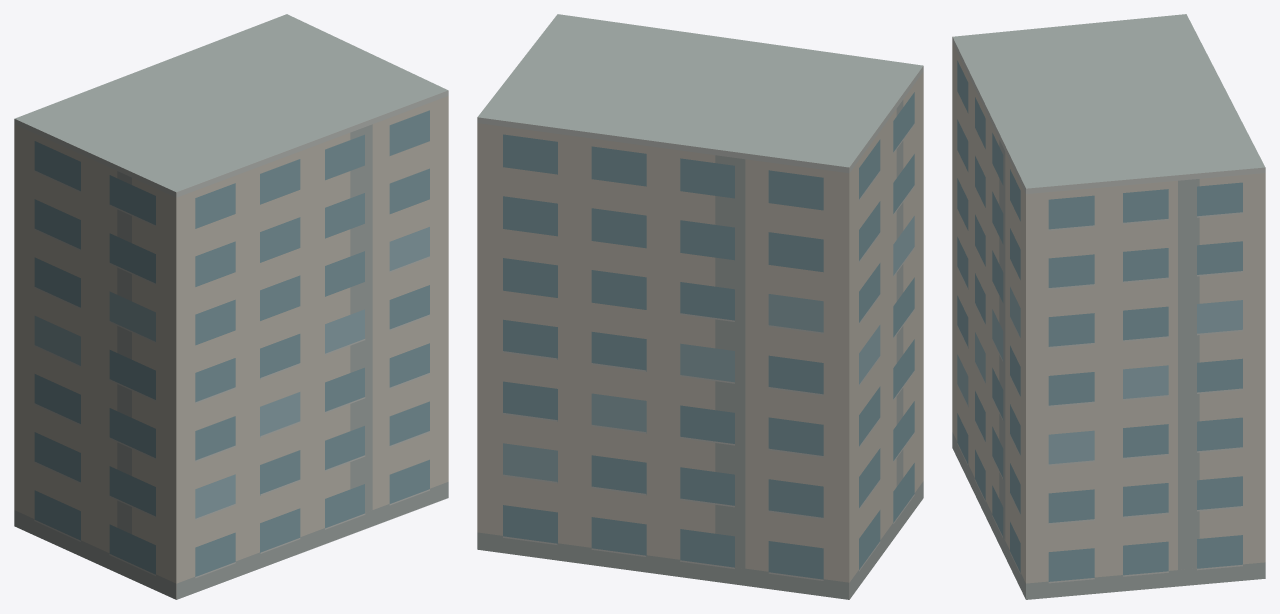
Rendered from survey-upis-32770086.glb.
3 views of the same model, side by side, from view 1: azimuth 30°, elevation 25°; view 2: azimuth 150°, elevation 25°; view 3: azimuth 270°, elevation 25° (orthographic). The views are drawn at different scales.
Parts seen in each view (by area): view 1: survey-upis-32770086.tmp; view 2: survey-upis-32770086.tmp; view 3: survey-upis-32770086.tmp.
Boxes of the visible parts, bbox=[...] form: survey-upis-32770086.tmp: bbox=[14, 14, 448, 599]; survey-upis-32770086.tmp: bbox=[477, 14, 923, 599]; survey-upis-32770086.tmp: bbox=[952, 14, 1265, 599].
Size of the model in its own units: 16.51 by 18.12 by 12.51.
